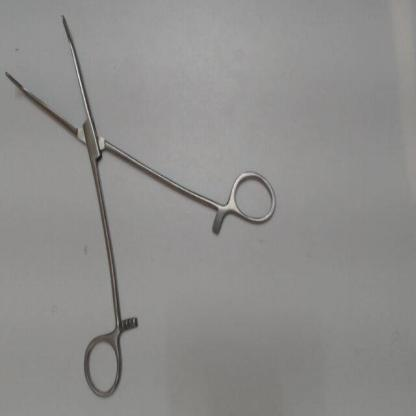Lahey Forceps: (0, 9, 282, 402)
